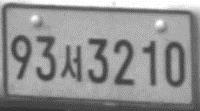0: (165, 41, 185, 87)
1: (140, 39, 157, 87)
2: (113, 39, 136, 86)
3: (35, 34, 56, 81), (87, 37, 108, 83)
9: (9, 34, 32, 80)
서: (59, 44, 83, 83)
